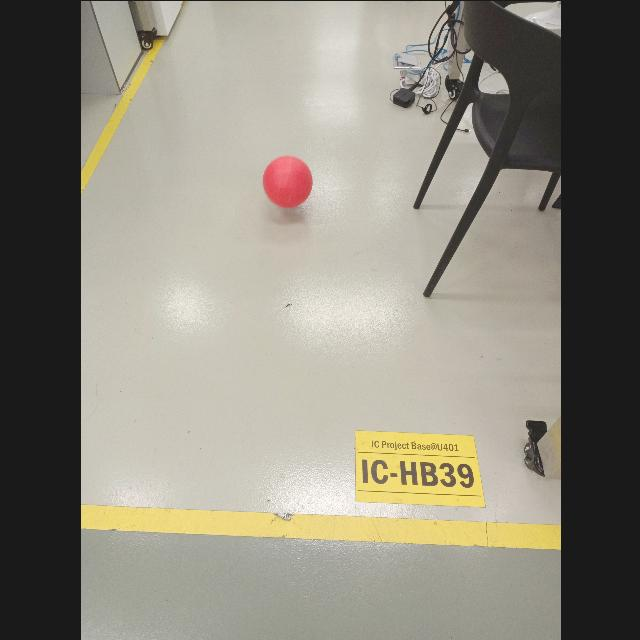R: (255, 155, 315, 209)
